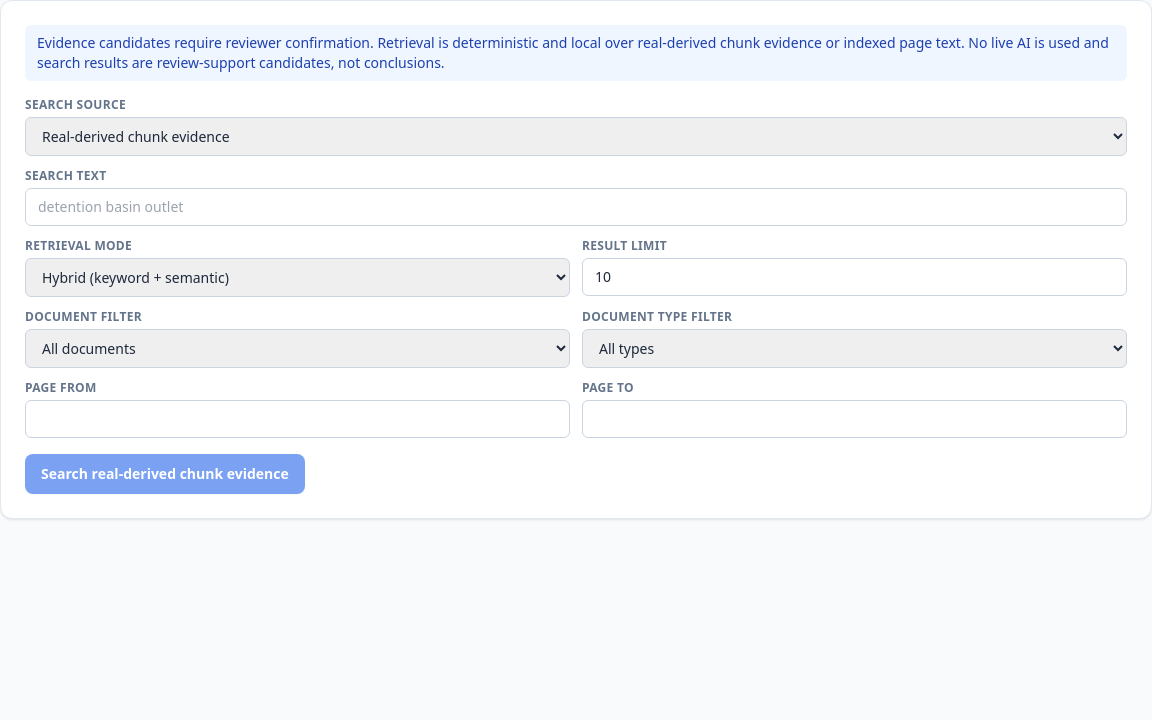
Scenario: Evidence search client › persists the triage status for the draft-queue action
Step 1. Type "detention basin" into the field with placeholder "detention basin outlet" → (576, 207), box [25, 188, 1127, 226]
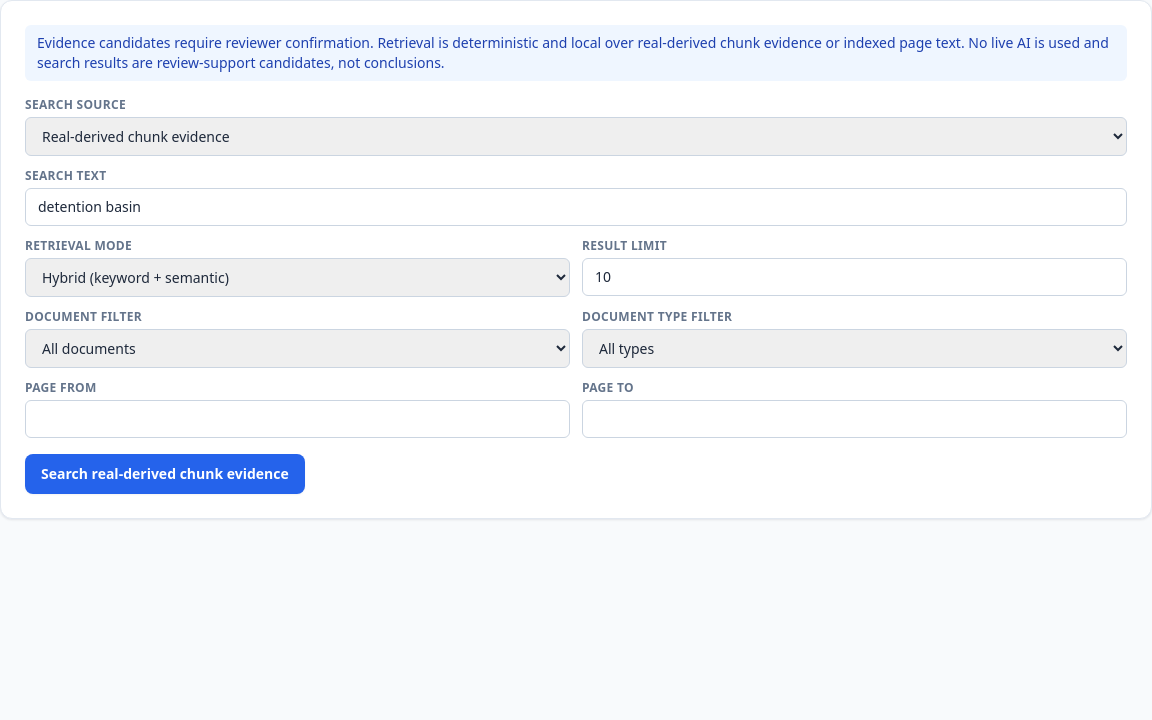
Step 2. Click the button "Search real-derived chunk evidence" → (165, 474), box [25, 454, 305, 494]
(page scrolled)
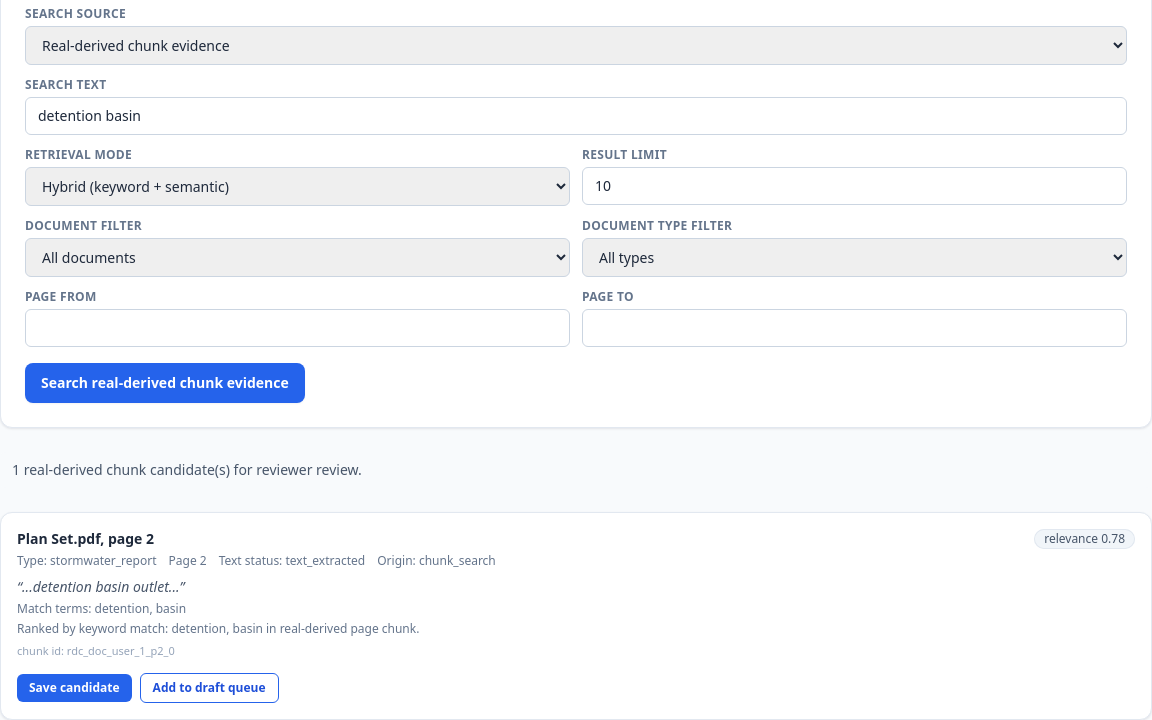
Now the button "Add to draft queue" is shown
Step 3. Click the button "Add to draft queue" → (209, 688), box [140, 673, 278, 703]
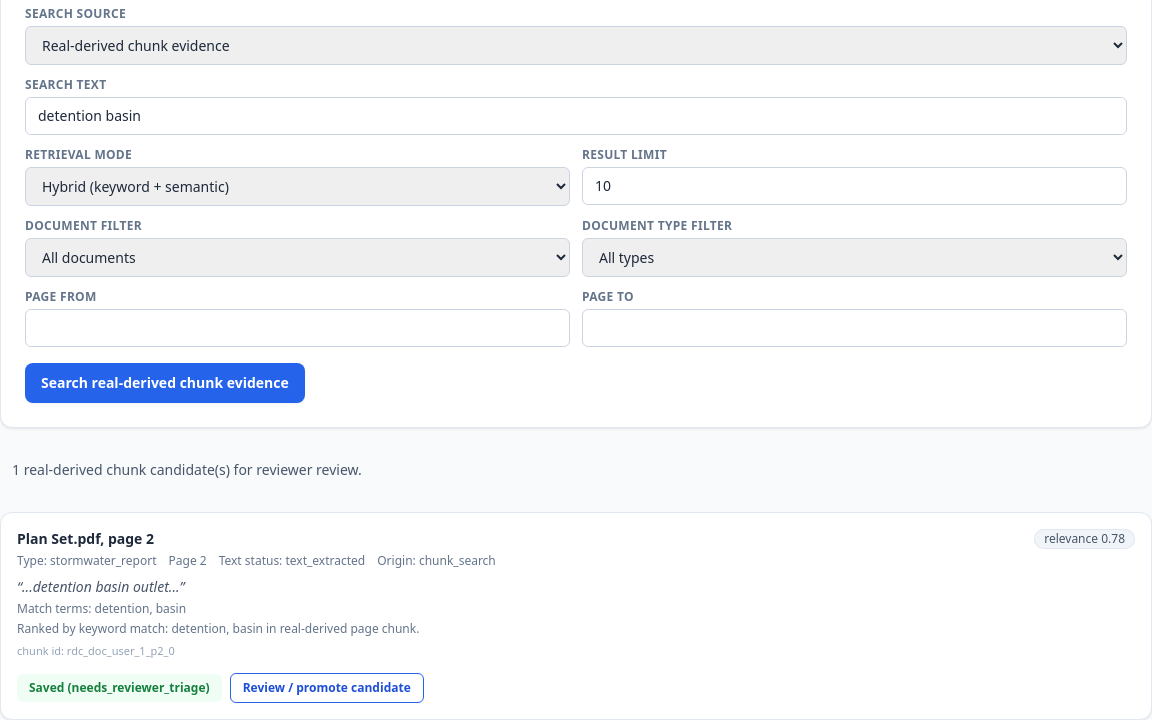
Now the text "Saved (needs_reviewer_triage)" is shown, box [17, 674, 222, 702]
